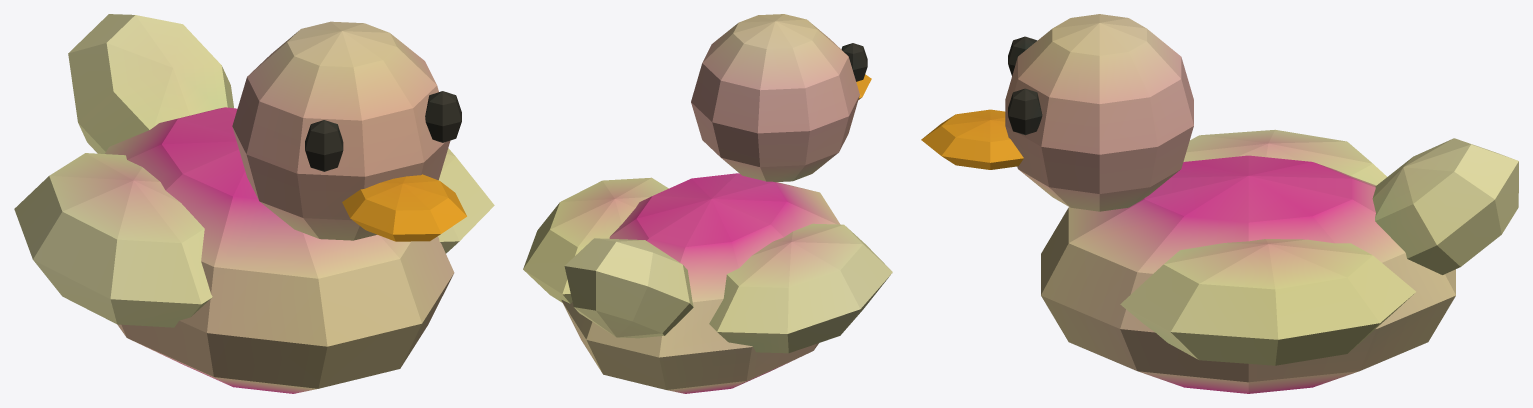
Rendered from Duck_01.glb.
3 views of the same model, side by side, from view 1: azimuth 30°, elevation 25°; view 2: azimuth 150°, elevation 25°; view 3: azimuth 270°, elevation 25° (orthographic). The views are drawn at different scales.
Parts seen in each view (by area): view 1: Duck_01; view 2: Duck_01; view 3: Duck_01.
Part boxes in pixels (<box>): Duck_01: <box>14,14,494,393</box>; Duck_01: <box>523,14,892,393</box>; Duck_01: <box>921,14,1518,393</box>.
Bounding box in the file's own units: 0.5488 × 0.4875 × 0.7532.
